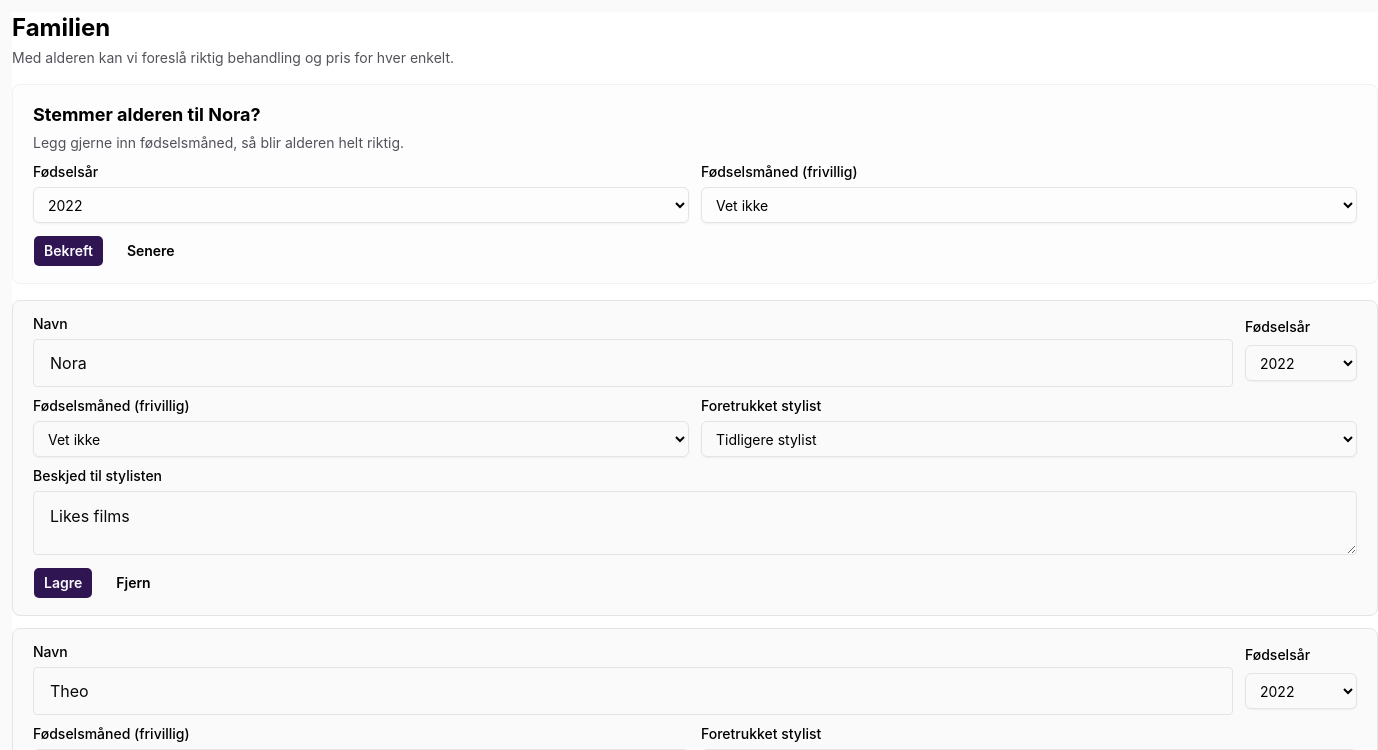
Test: Age prompt in the family editor › «later» hides it and remembers, then the next child is asked about
Click the button "Senere": (151, 251) [116, 235, 186, 267]
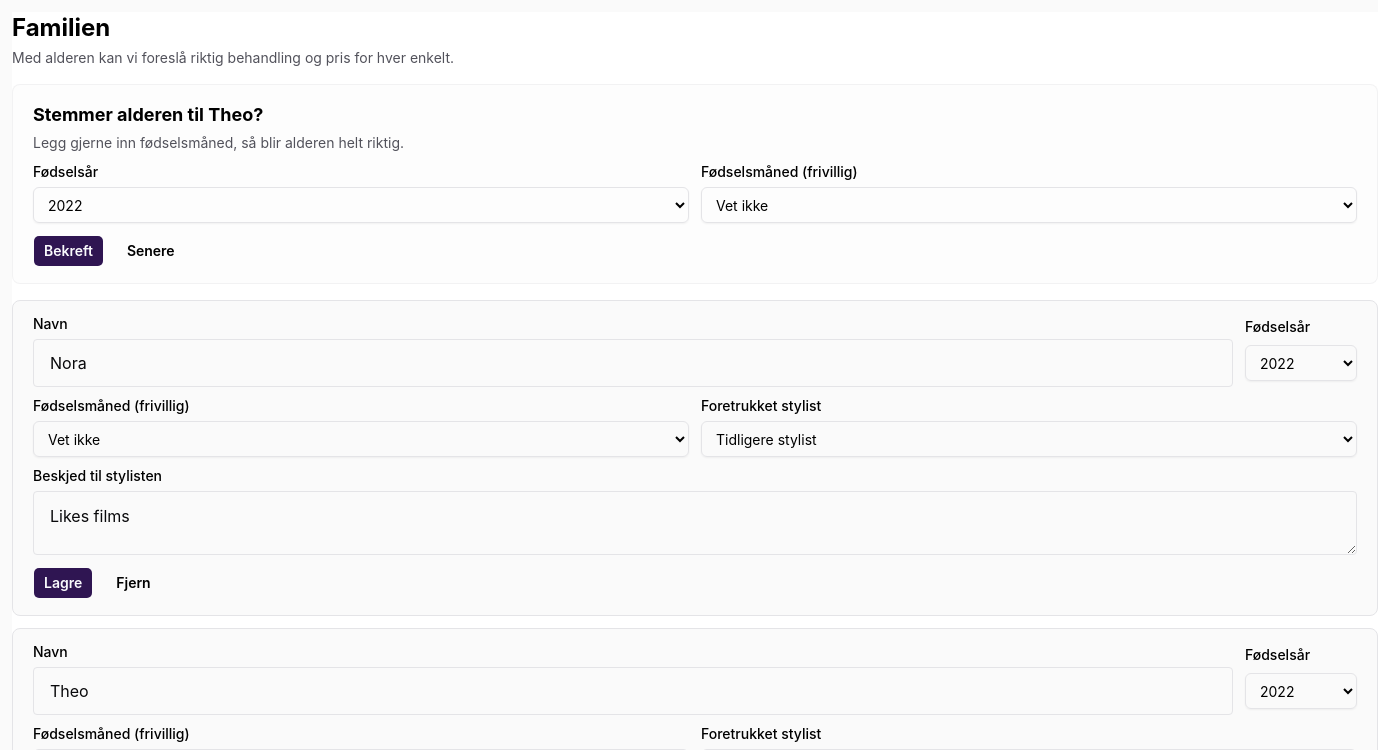
Expected: the heading "Stemmer alderen til Theo?" is shown, [33, 104, 263, 125]
